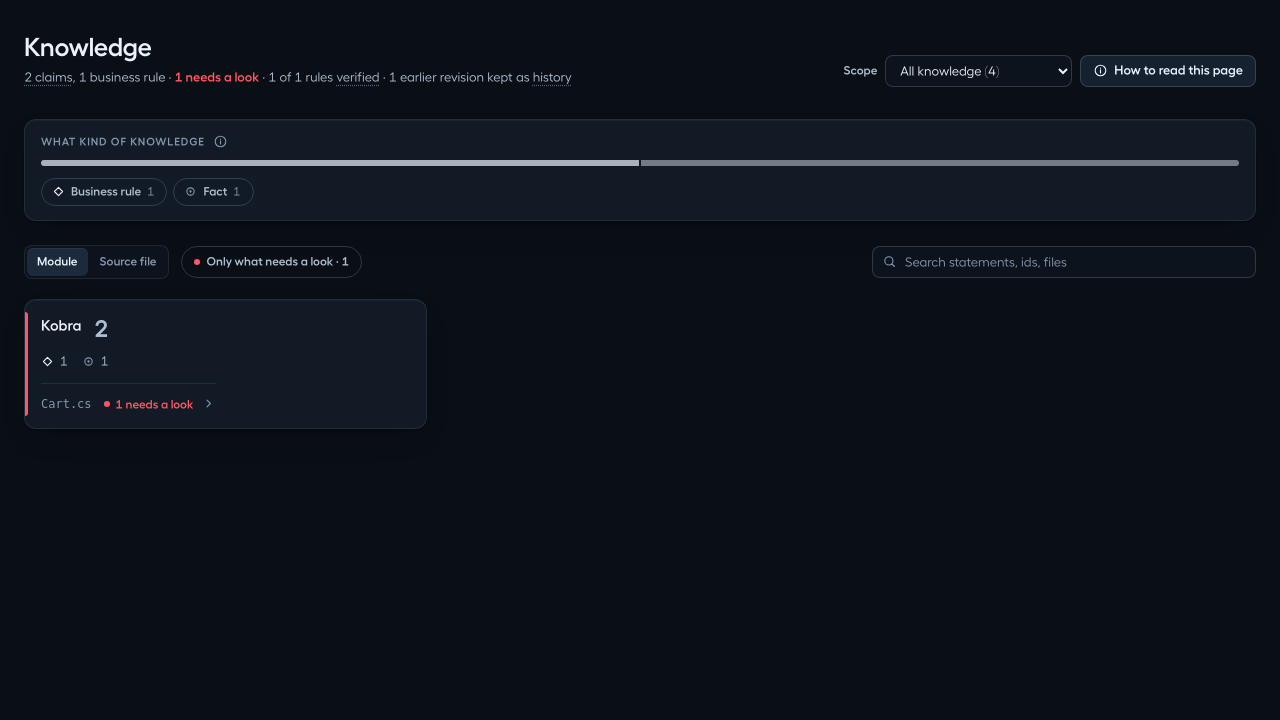
Test: KnowledgeView › shows a revised, violated rule's justification, history and consumers, and follows a premise
Type "500" into the search field at (1064, 262), box top-left (872, 246), bottom-right (1256, 278)
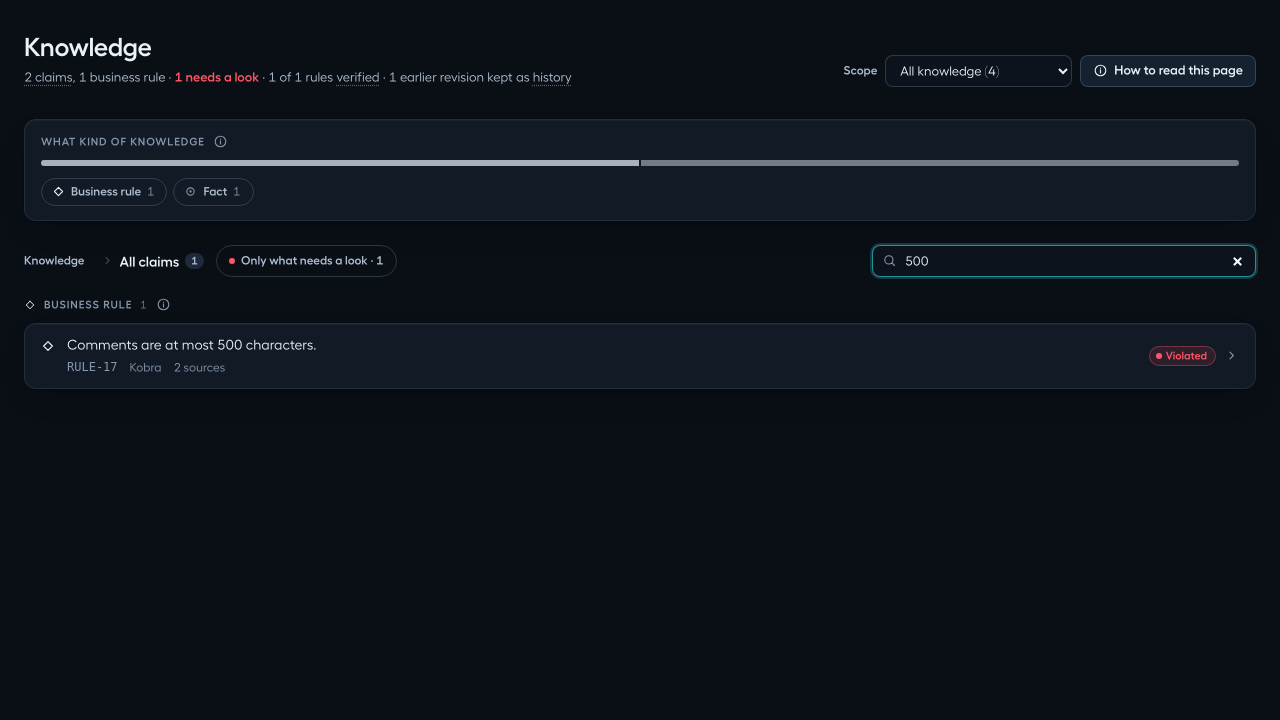
Click the text "Comments are at most 500 characters." at (192, 345), box top-left (67, 338), bottom-right (317, 352)
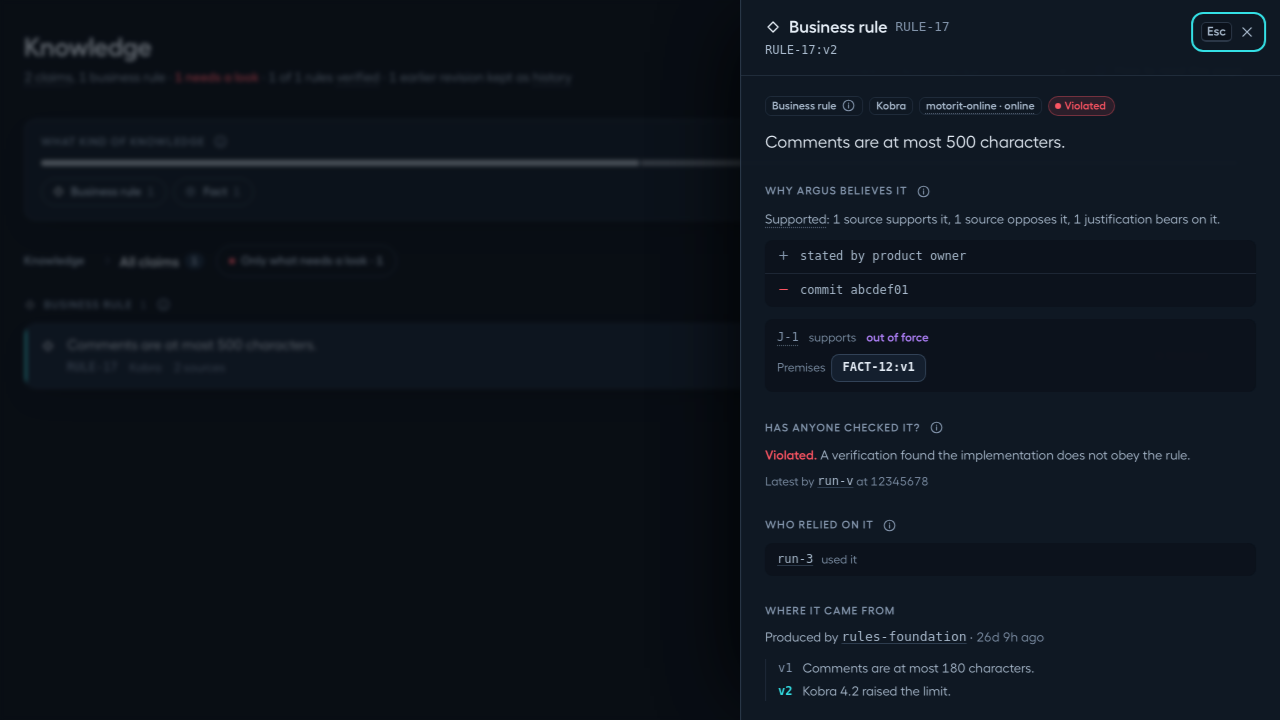
Now the dialog shows "1 source supports it, 1 source opposes it, 1 justification bears on it.", box top-left (826, 212), bottom-right (1220, 224)
Now the dialog shows "commit abcdef01", box top-left (800, 283), bottom-right (908, 297)
Now the dialog shows "Violated", box top-left (1065, 100), bottom-right (1106, 111)
Click the button "FACT-12:v1" at (879, 368), box top-left (831, 354), bottom-right (926, 382)
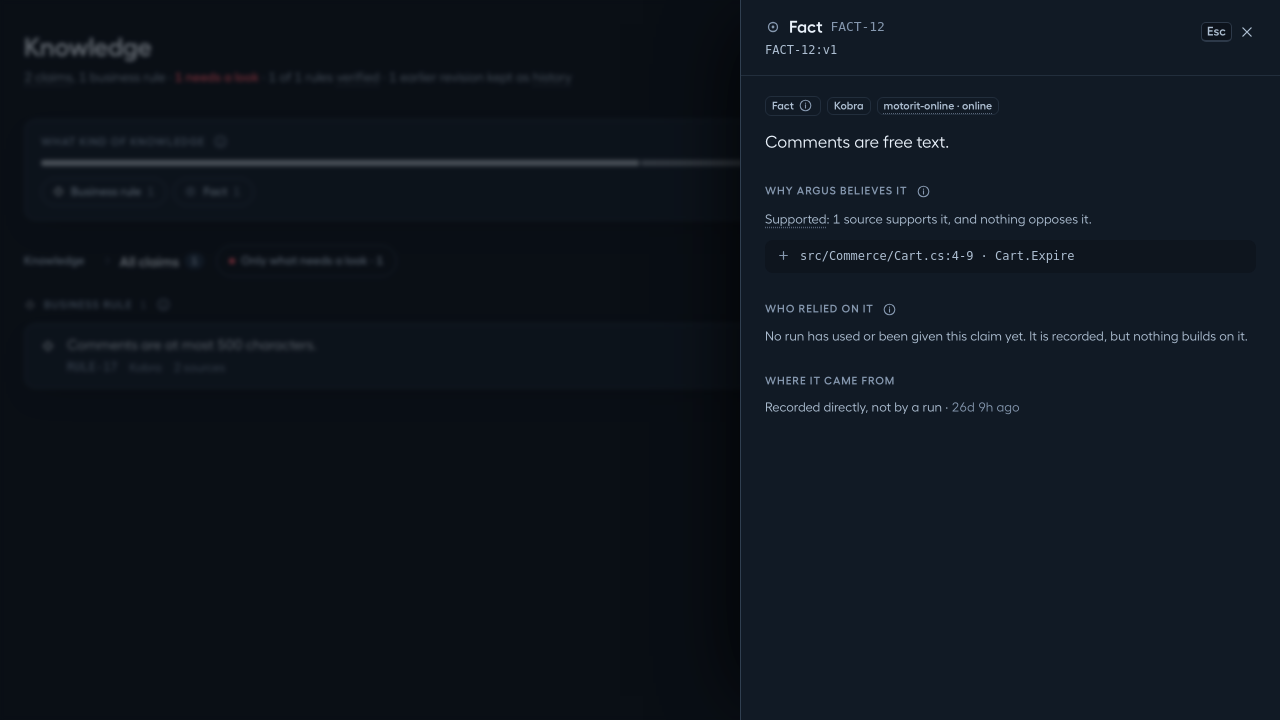
Now the text "Recorded directly, not by a run" is shown, box top-left (765, 400), bottom-right (942, 413)
Now the text "No run has used or been given this claim yet" is shown, box top-left (765, 329), bottom-right (1248, 342)
